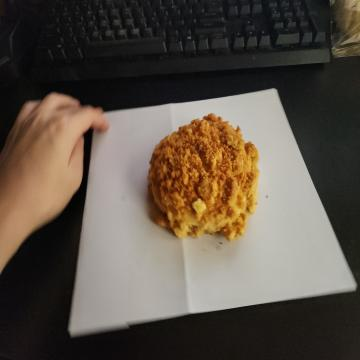soboru_bread: (146, 109, 258, 244)
